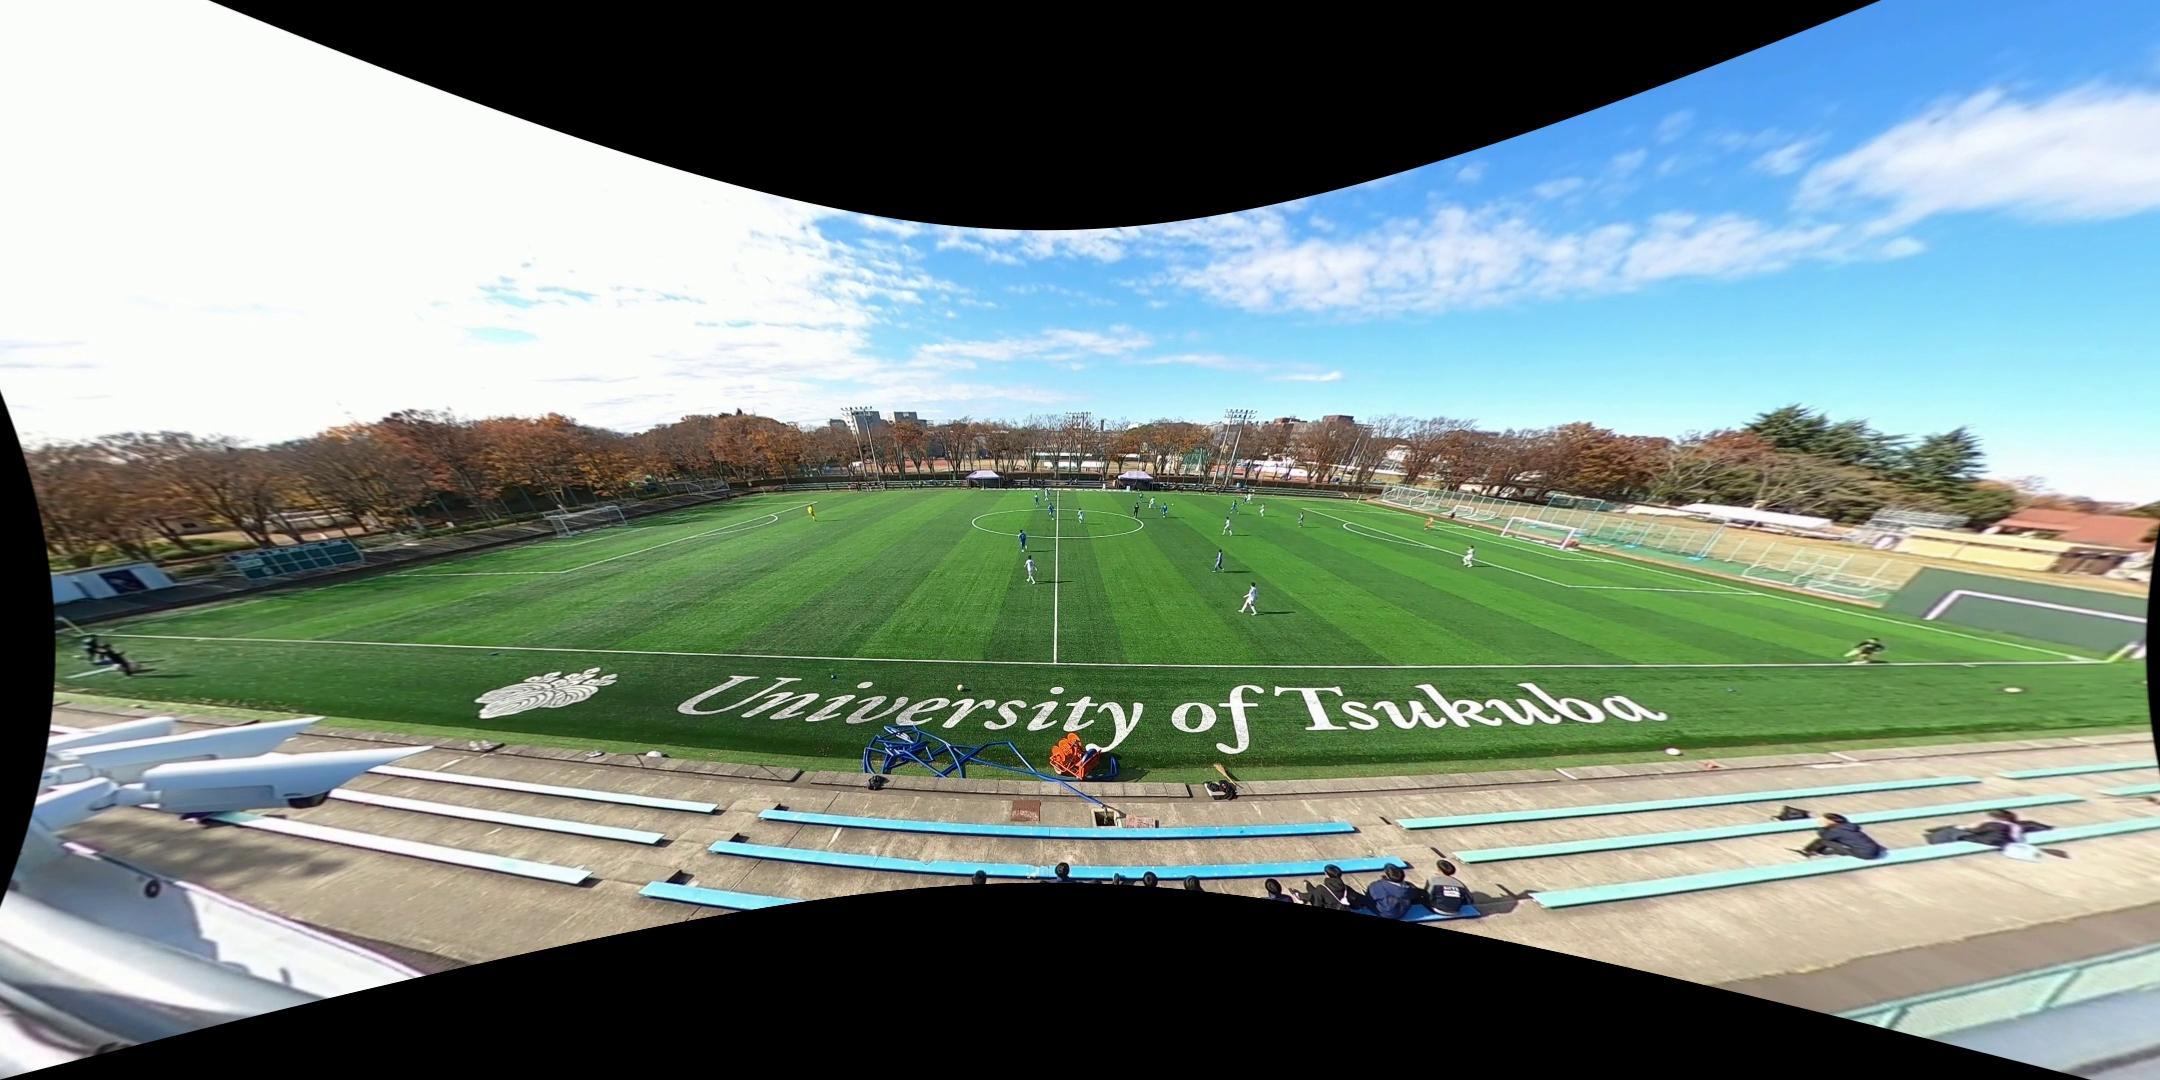person: (1847, 636, 1884, 664), (1239, 582, 1259, 615), (1024, 555, 1038, 584), (1461, 545, 1476, 568), (1212, 549, 1225, 572), (1017, 530, 1029, 551), (1222, 516, 1234, 537), (1077, 508, 1087, 524), (1423, 517, 1434, 531), (807, 503, 816, 520), (1160, 502, 1169, 518), (1230, 500, 1240, 514), (1048, 503, 1056, 520), (1297, 511, 1305, 528), (1133, 502, 1140, 519), (1033, 492, 1040, 507), (1259, 502, 1266, 517), (1149, 496, 1156, 509), (1246, 493, 1254, 503), (1044, 488, 1050, 501), (1139, 492, 1144, 504), (1241, 495, 1247, 505), (1040, 480, 1046, 490), (1046, 487, 1051, 498), (1102, 483, 1107, 492)
sports ball: (1171, 502, 1175, 507)
